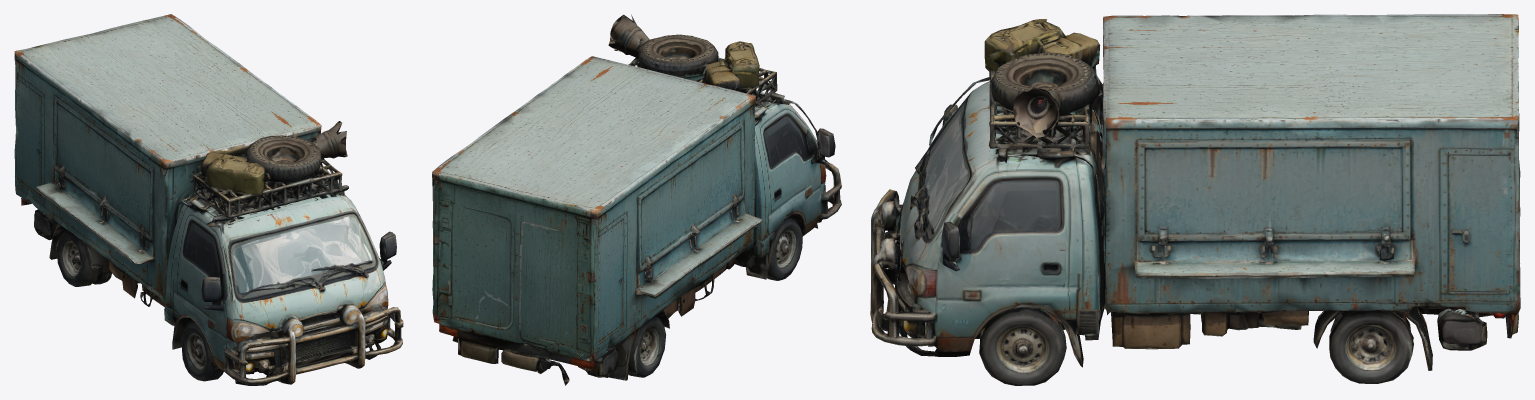
File: Vehicle_PlayerTruck.fbx
The picture shows the model from 3 angles, left to right: view 1: azimuth 30°, elevation 25°; view 2: azimuth 150°, elevation 25°; view 3: azimuth 270°, elevation 25°; orthographic projection. The views are drawn at different scales.
Visible parts, largest first — view 1: texture_mapping; view 2: texture_mapping; view 3: texture_mapping.
Part boxes in pixels (<box>): texture_mapping: <box>14,14,403,385</box>; texture_mapping: <box>432,14,841,385</box>; texture_mapping: <box>870,14,1520,385</box>.
Size of the model in its own units: 0.471 by 1 by 0.5042.
Materials: 1 (1 with a texture image).
